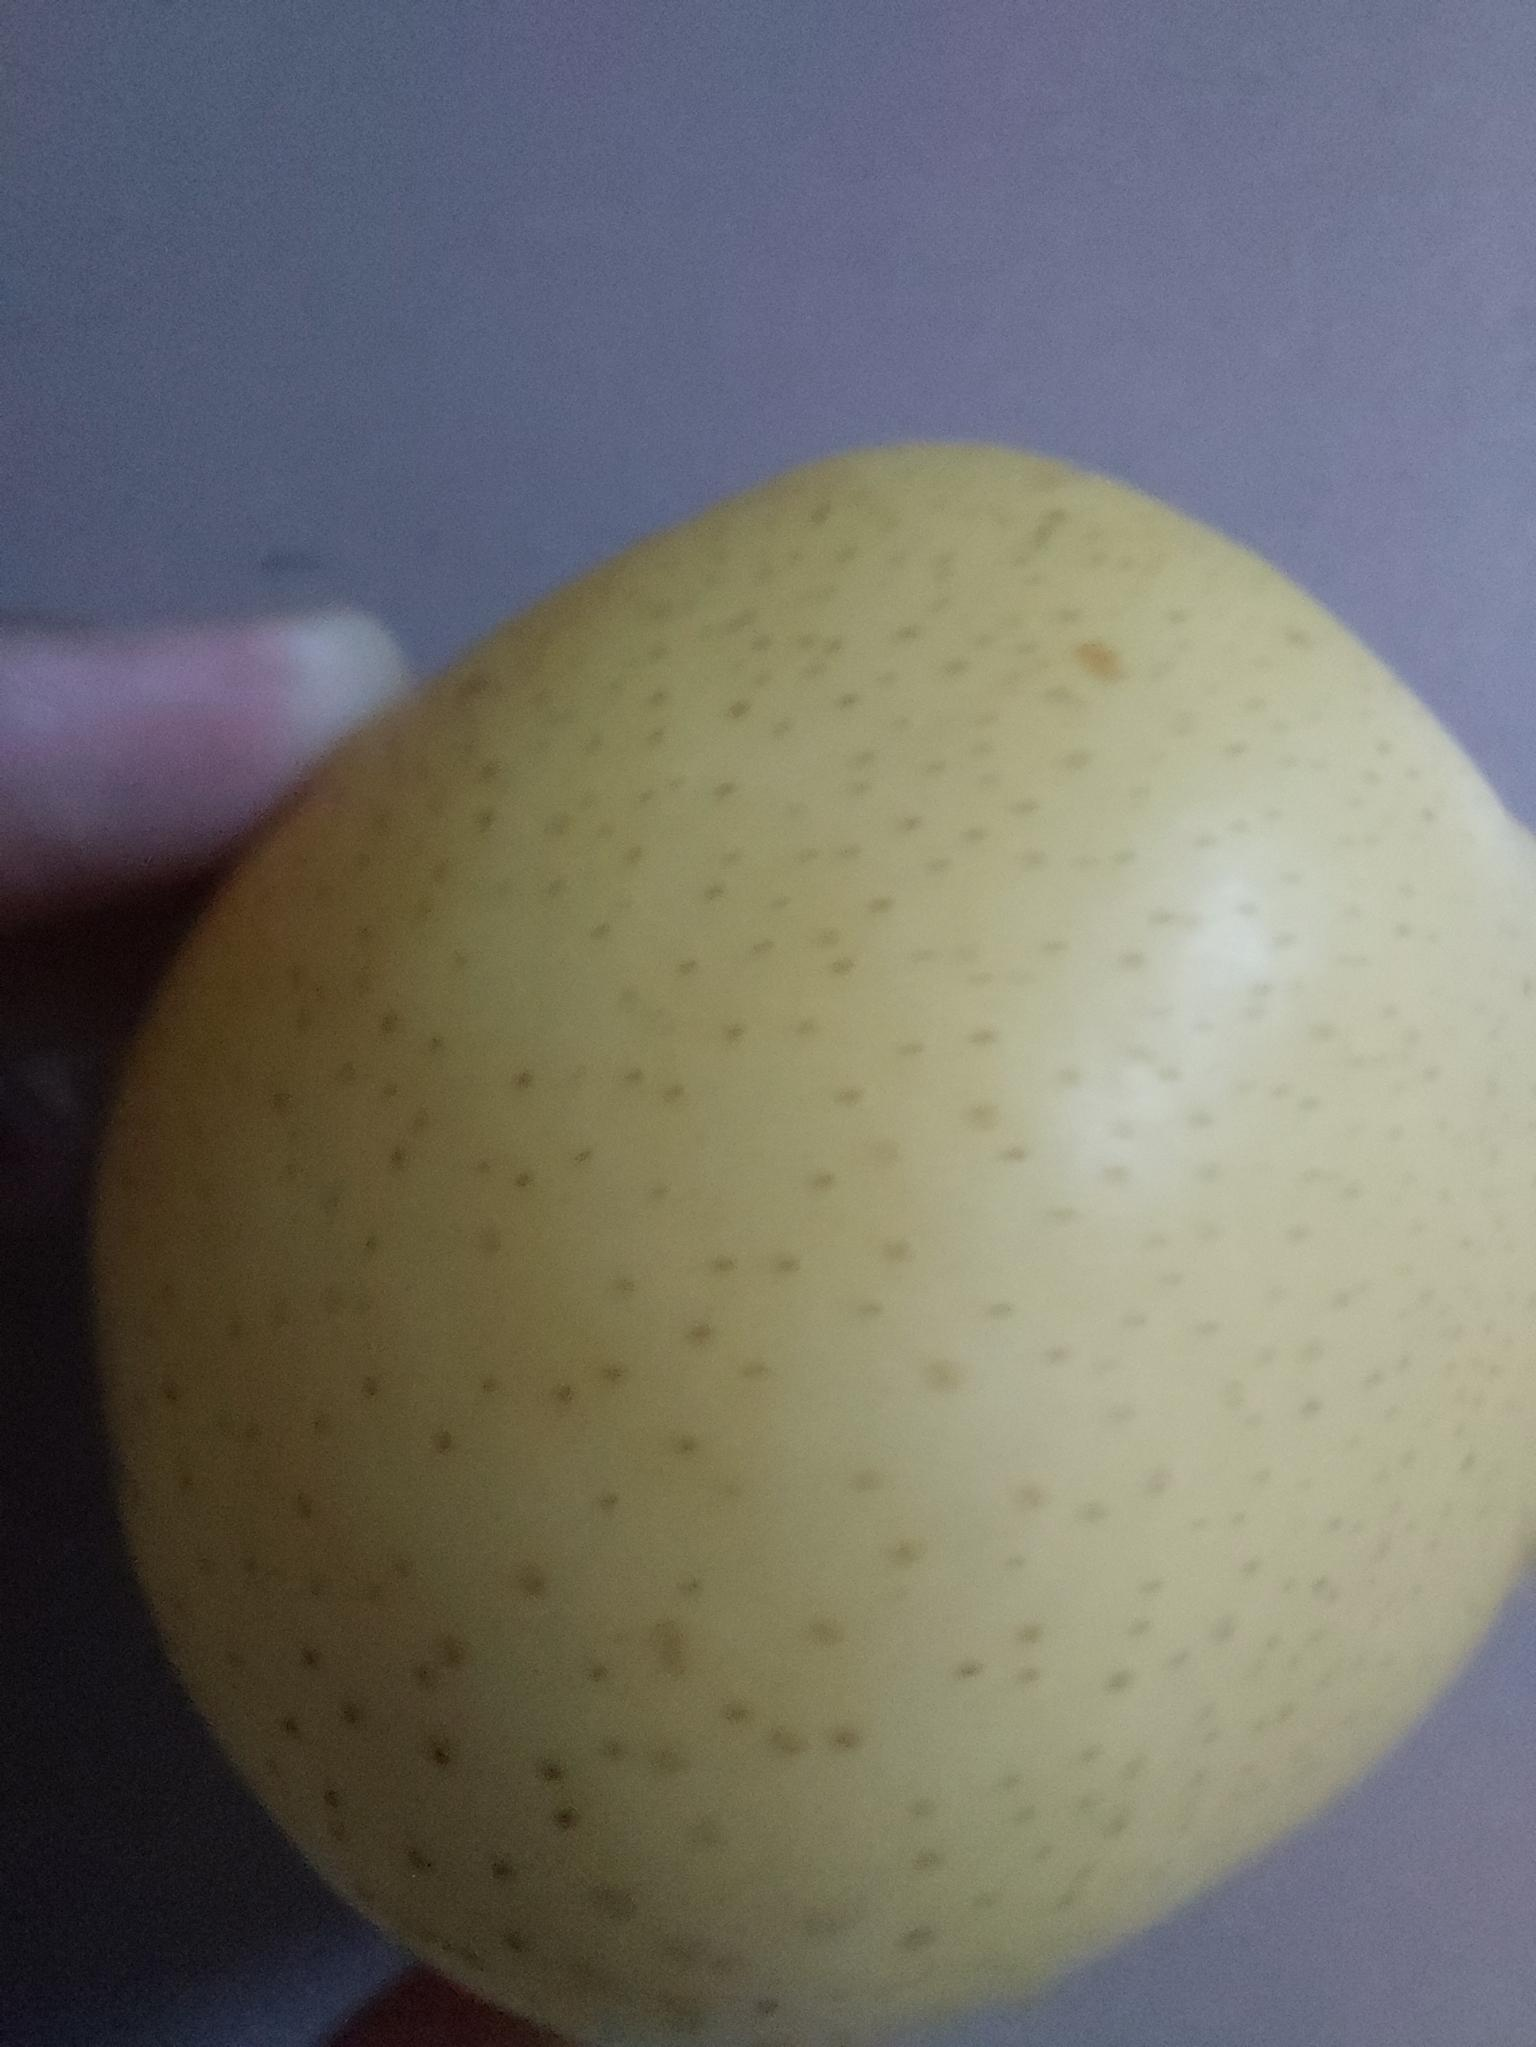Good Pear: (108, 430, 1526, 2047)
